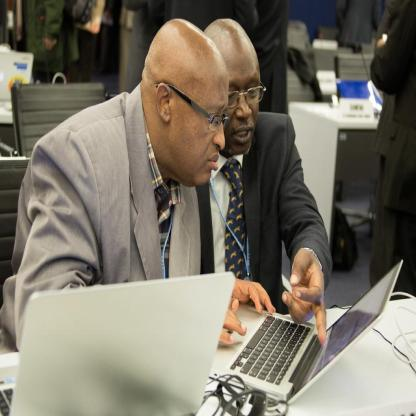board: (0, 272, 234, 416), (209, 258, 404, 406), (0, 48, 35, 98)
